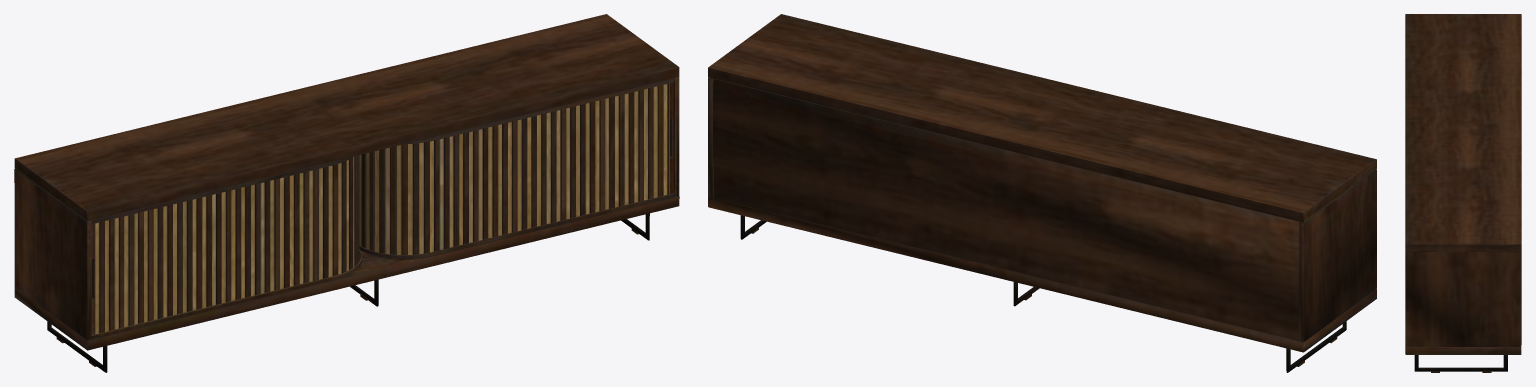
The model's file is console.glb.
The picture shows the model from 3 angles, left to right: view 1: azimuth 30°, elevation 25°; view 2: azimuth 150°, elevation 25°; view 3: azimuth 270°, elevation 25°; orthographic projection. The views are drawn at different scales.
Visible parts, largest first — view 1: modern_wooden_cabinet_body, modern_wooden_cabinet_door_l; view 2: modern_wooden_cabinet_body; view 3: modern_wooden_cabinet_body.
Boxes of the visible parts, box(x1,y1,x2,y2) form: modern_wooden_cabinet_body: box(14, 14, 679, 372); modern_wooden_cabinet_door_l: box(91, 82, 673, 334); modern_wooden_cabinet_body: box(708, 14, 1376, 372); modern_wooden_cabinet_body: box(1405, 14, 1521, 372).
Bounding box in the file's own units: 2.44 × 0.6801 × 0.52.
Materials: 1 (1 with a texture image).
